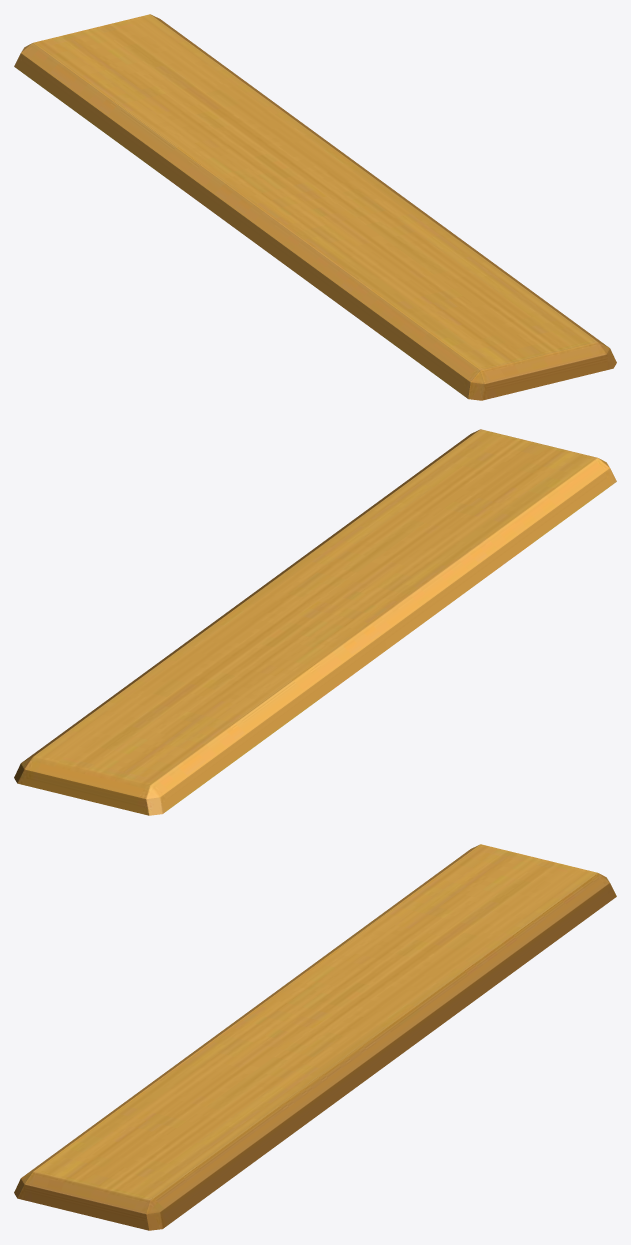
The model's file is ZhaLan_DiBan1.FBX.
3 views of the same model, one above another, from view 1: azimuth 30°, elevation 25°; view 2: azimuth 150°, elevation 25°; view 3: azimuth 330°, elevation 25° (orthographic).
Parts seen in each view (by area): view 1: ZhaLan_DiBan1; view 2: ZhaLan_DiBan1; view 3: ZhaLan_DiBan1.
Part boxes in pixels (x1=…): ZhaLan_DiBan1: x1=14, y1=14, x2=616, y2=400; ZhaLan_DiBan1: x1=14, y1=429, x2=616, y2=815; ZhaLan_DiBan1: x1=14, y1=844, x2=616, y2=1230.
Bounding box in the file's own units: 78.52 × 11.3 × 425.
